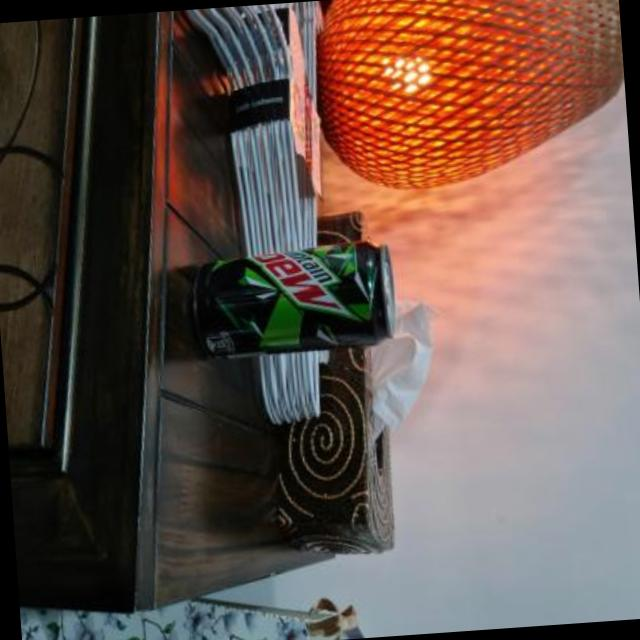cardboard paper: (367, 304, 433, 432)
metal: (190, 234, 396, 356)
